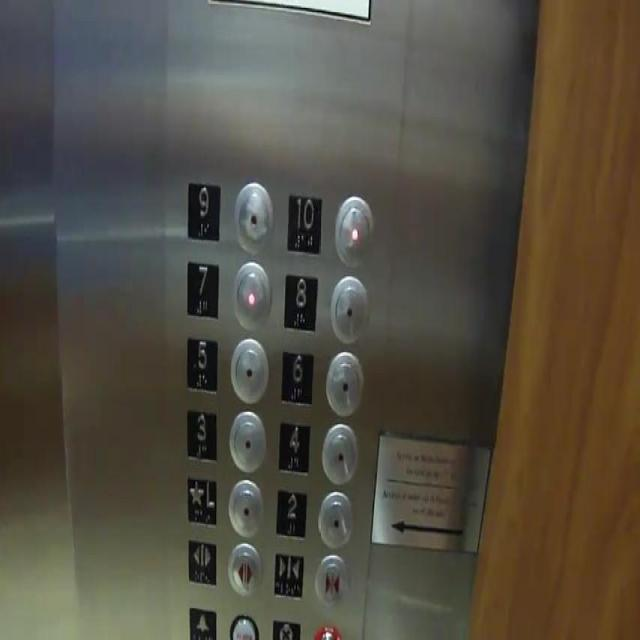10: (284, 186, 324, 258), (280, 266, 319, 338), (182, 253, 220, 324), (185, 175, 223, 245), (278, 344, 316, 407), (275, 415, 313, 477), (182, 403, 220, 465), (183, 332, 220, 395), (273, 483, 310, 545), (184, 471, 218, 529), (185, 536, 220, 588), (227, 542, 262, 594), (270, 550, 304, 602), (315, 554, 349, 606)
empty: (232, 174, 276, 258), (326, 272, 372, 349), (332, 195, 377, 272), (230, 257, 274, 332), (324, 351, 366, 420), (319, 419, 361, 488), (226, 404, 266, 472), (316, 484, 355, 552), (229, 334, 268, 402), (225, 474, 264, 542)
